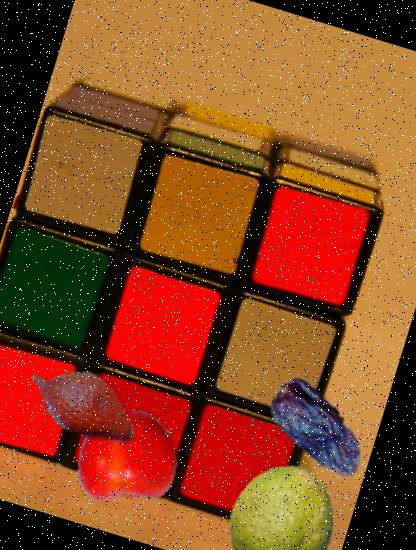Cherry: (62, 395, 186, 519)
Dates: (242, 358, 388, 504)
Limes: (213, 449, 357, 550)
Salak: (8, 328, 160, 480)
